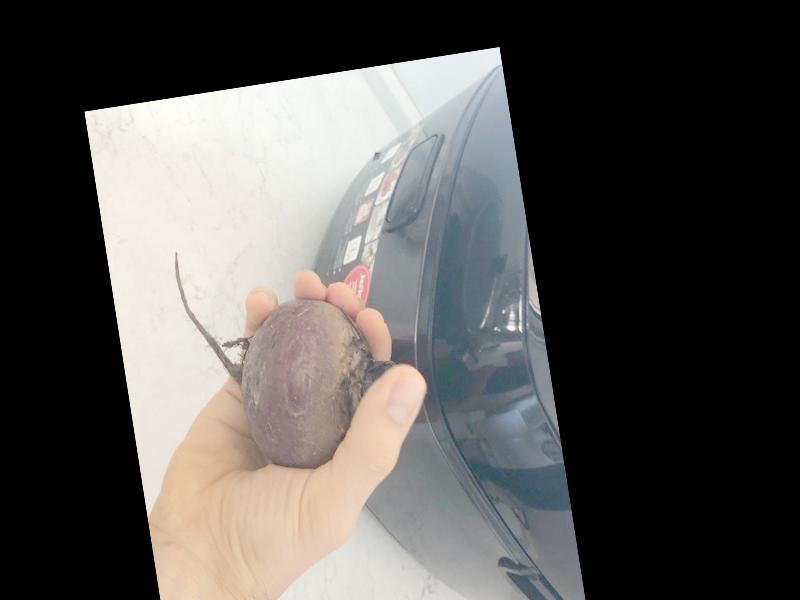Beet: (172, 221, 406, 483)
